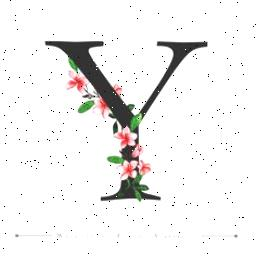y: (38, 36, 214, 206)
